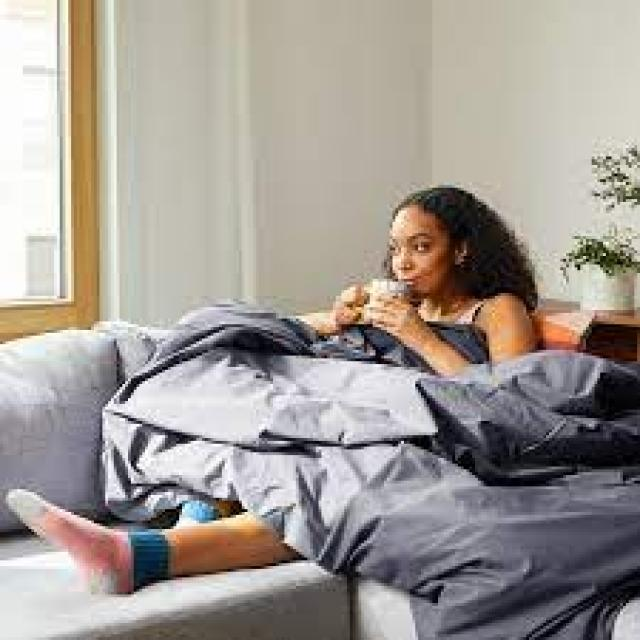blanket: (104, 305, 640, 640)
